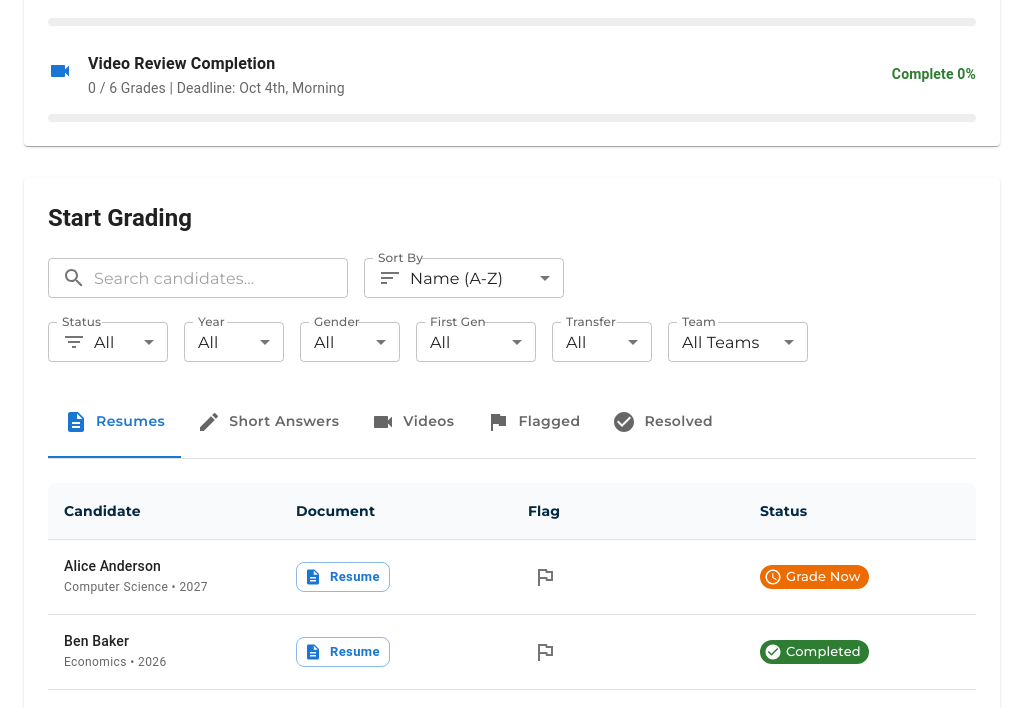
it: AdminDocumentGrading team filter › handles applications without a team as Unknown Team
(page scrolled)
Press the mouse on the dropdown labelled "All Teams" at (721,342), box [682, 333, 760, 352]
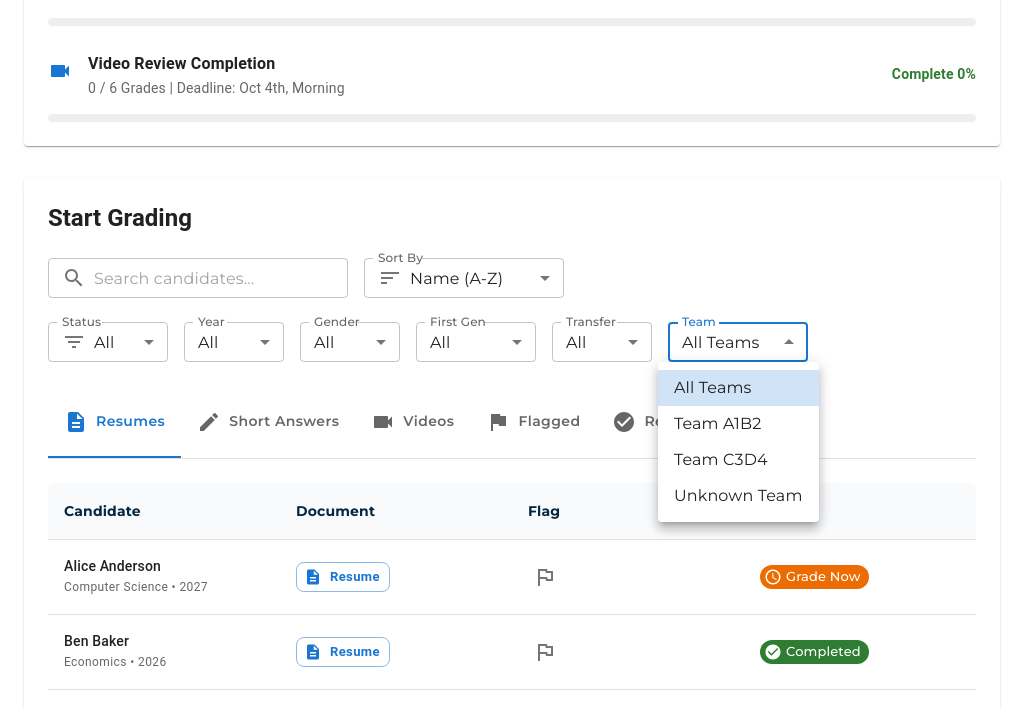
Click the option "Unknown Team" at (738,496), box [674, 486, 803, 505]
(page scrolled)
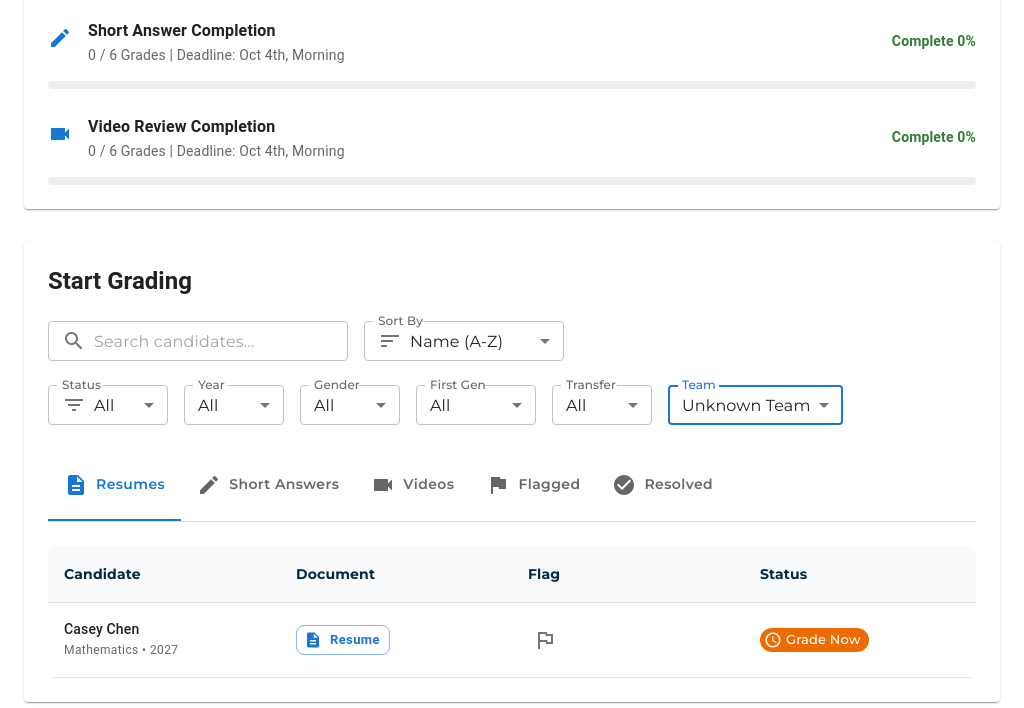
Check: the text "Casey Chen" is shown, box [64, 621, 139, 637]
Check: the text "Alice Anderson" is gone
Check: the text "Ben Baker" is gone
